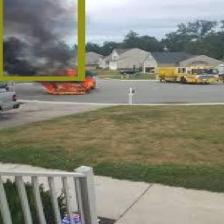smoke: (0, 0, 83, 79)
